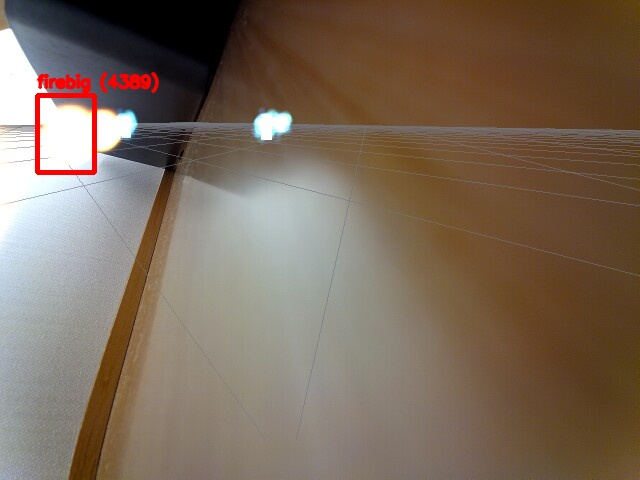firebig: (37, 95, 94, 172)
